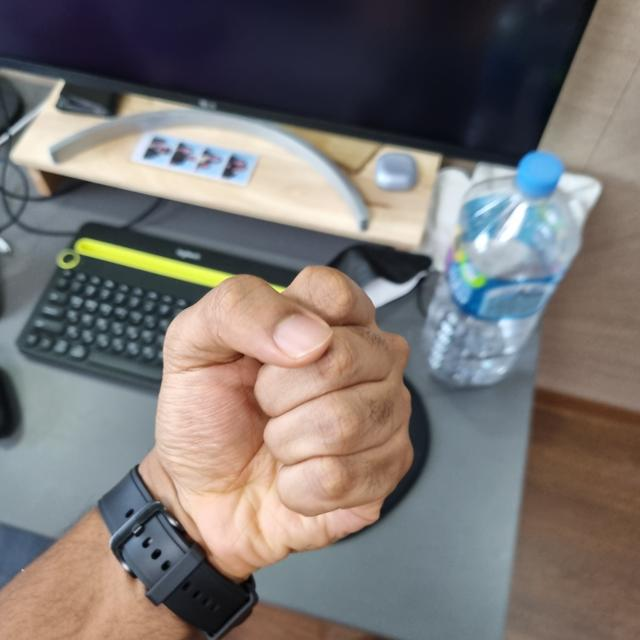Rock: (152, 266, 413, 575)
